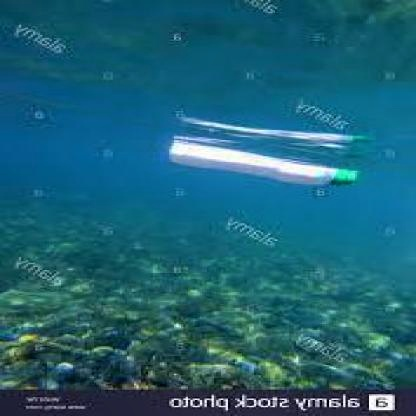pbottle: (155, 131, 367, 197)
